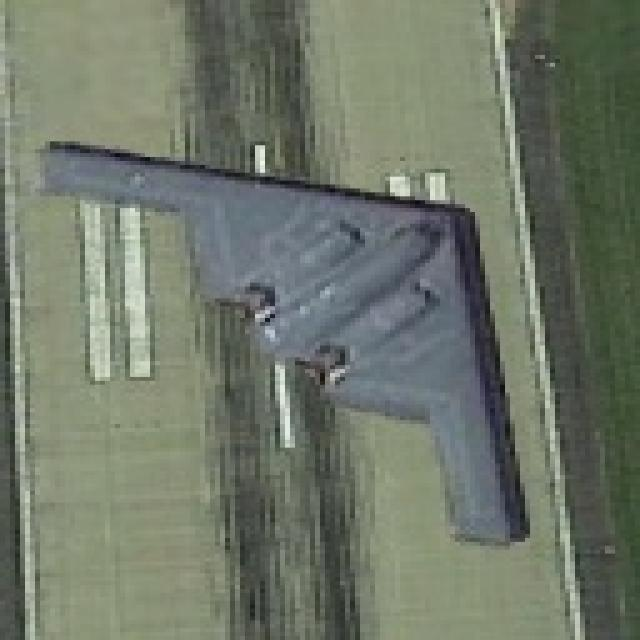B-2_TopDown: (30, 130, 535, 546)
